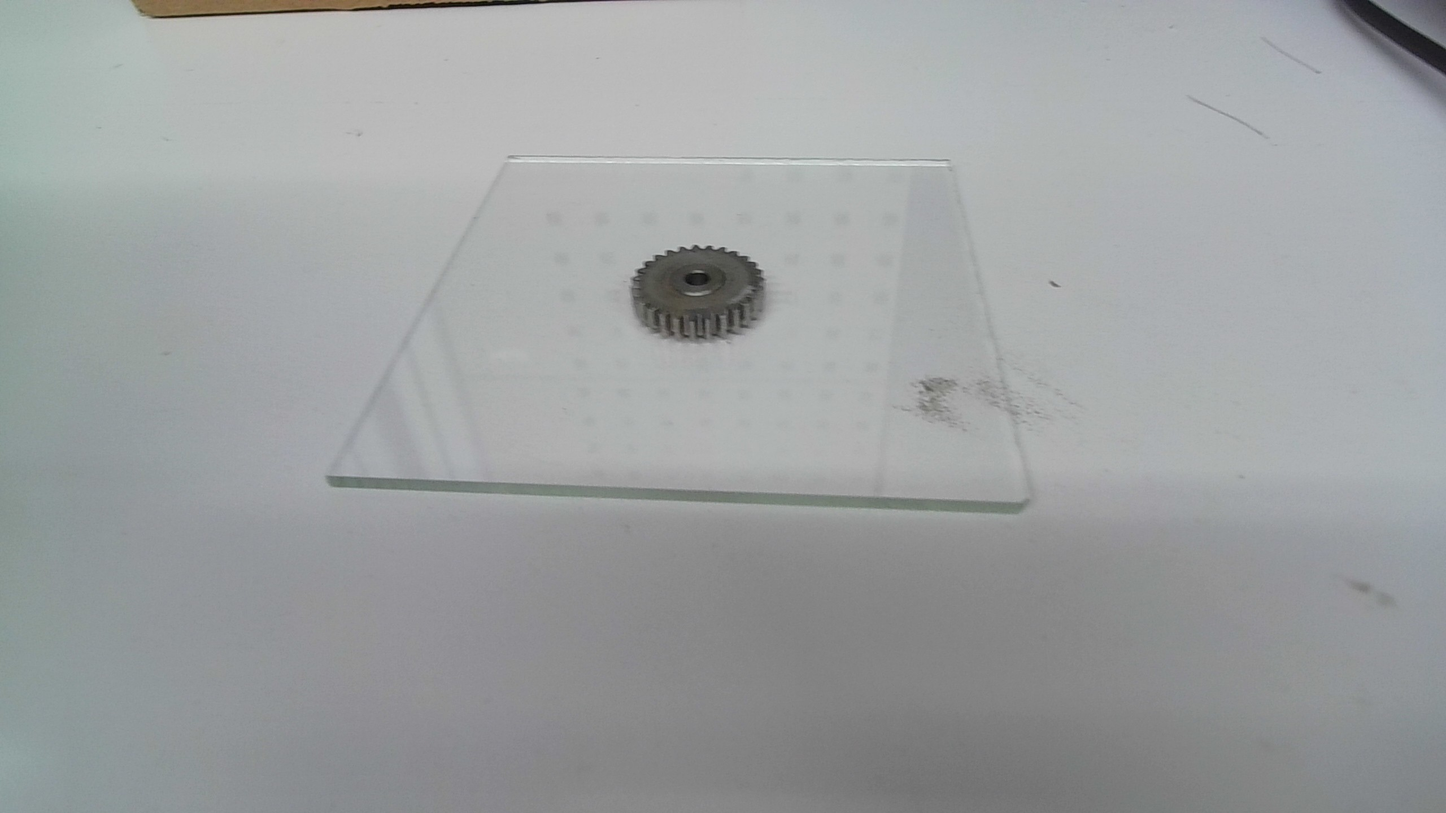gear: (628, 242, 767, 342)
